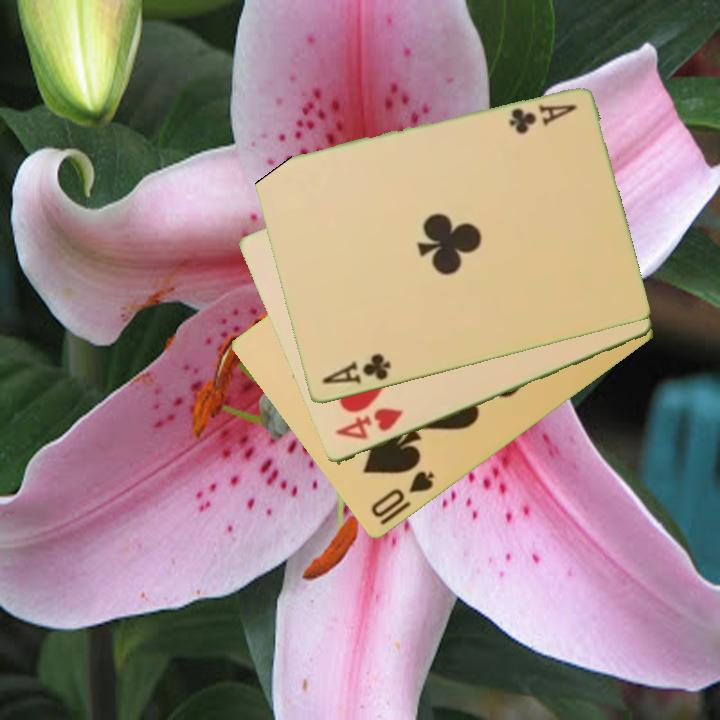10s: (367, 468, 437, 522)
4h: (331, 404, 406, 444)
Ac: (318, 350, 393, 388), (505, 101, 580, 137)
